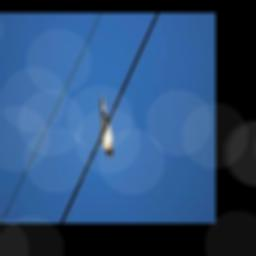Swallow: (98, 94, 113, 158)
